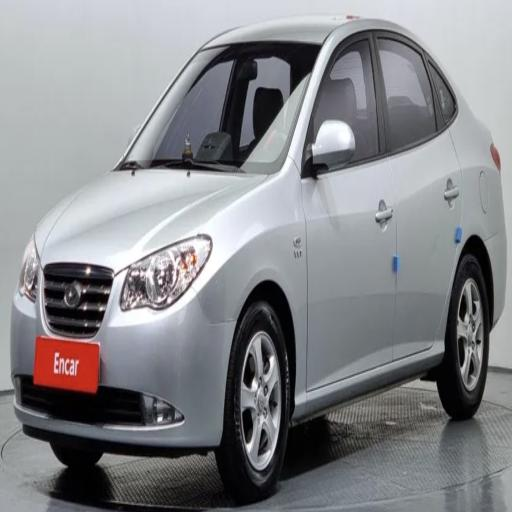scratch: (28, 23, 502, 453)
